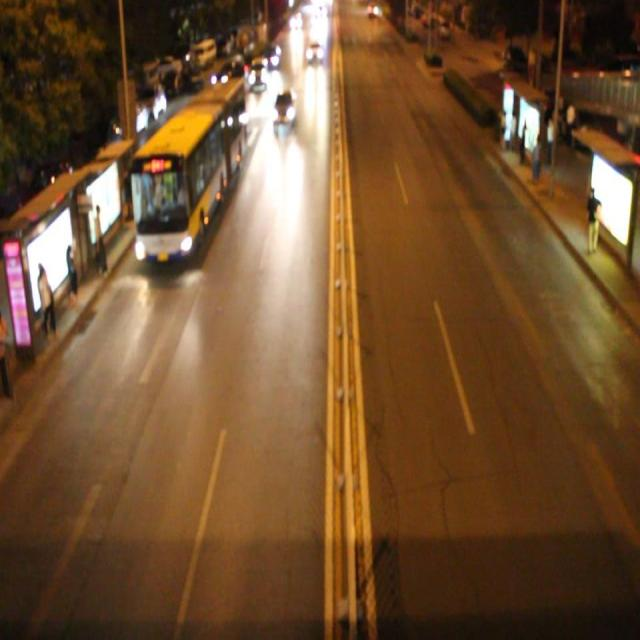car: (272, 87, 296, 125)
truck: (248, 56, 268, 92)
van: (133, 80, 245, 264)
